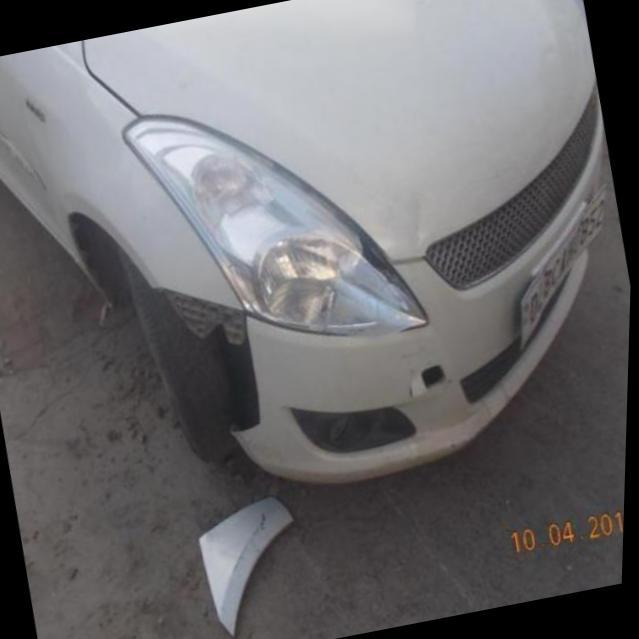lamp broken: (164, 112, 436, 328)
no part: (152, 291, 265, 436), (422, 361, 451, 396)
